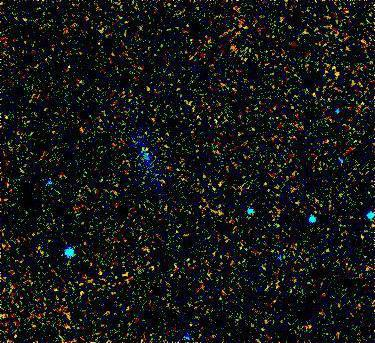star: (131, 137, 161, 167)
